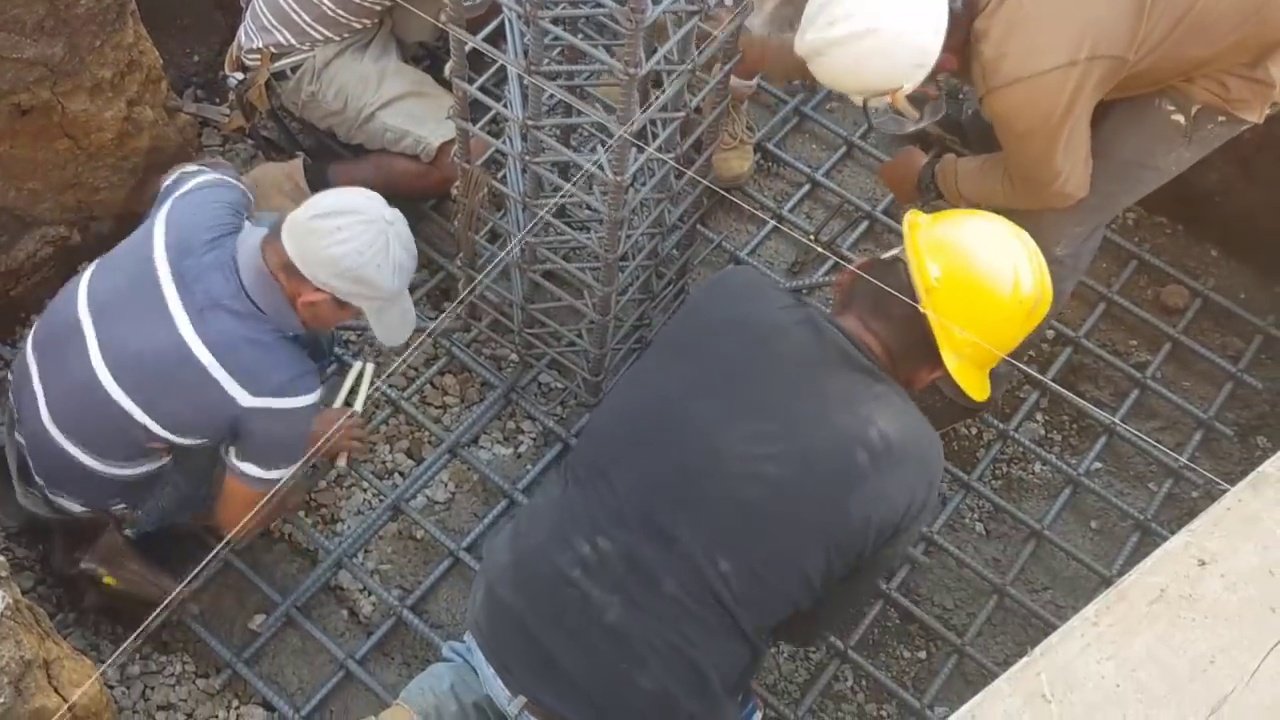helmet: (901, 205, 1058, 399), (800, 5, 951, 110)
helmet-off: (265, 188, 420, 334)
helmet-on: (817, 205, 1061, 400), (796, 4, 1000, 111)
person: (371, 189, 1066, 711), (1, 161, 416, 575), (793, 0, 1279, 311), (215, 6, 504, 264), (597, 2, 787, 182)
